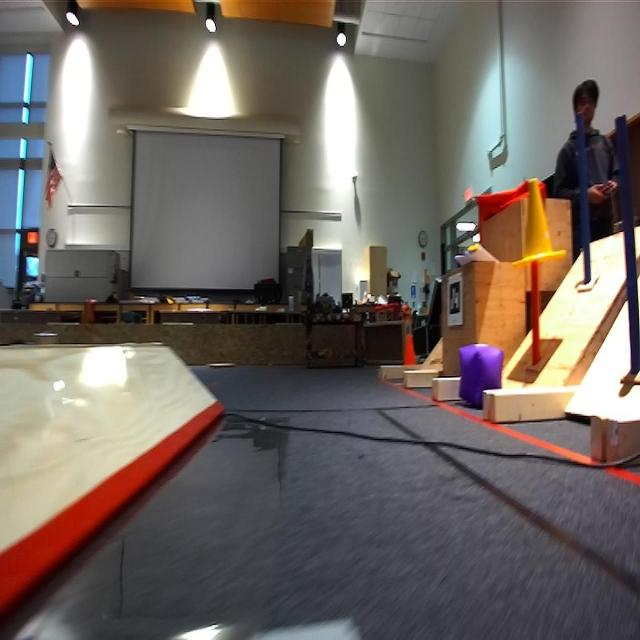frc_cone: (516, 177, 562, 270)
frc_cube: (456, 342, 502, 406)
